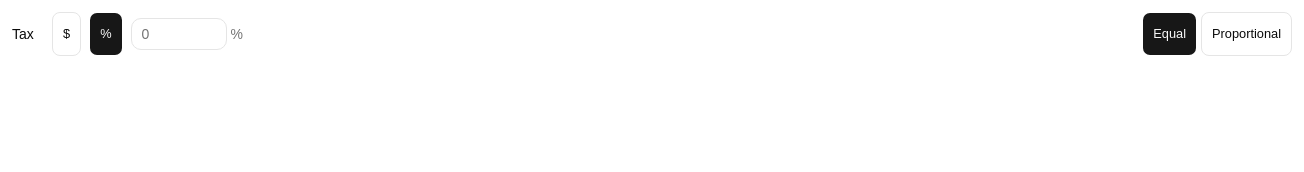
it: TaxControl › TAX-01 dollar mode renders $ prefix and aria-label Tax amount
Click the button "$".
click(67, 34)  # box x1=52 y1=12 x2=81 y2=56
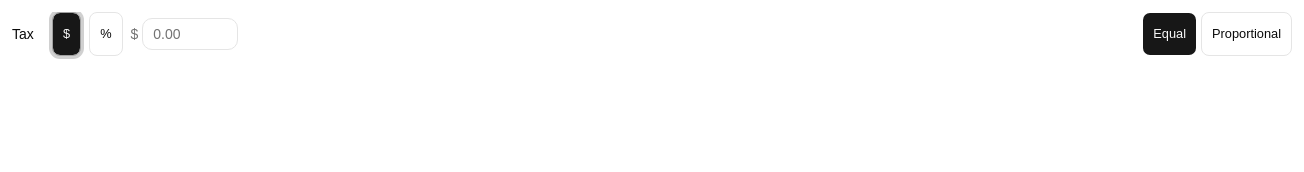
Check: the field named "Tax amount" is shown, box x1=142 y1=18 x2=238 y2=50
